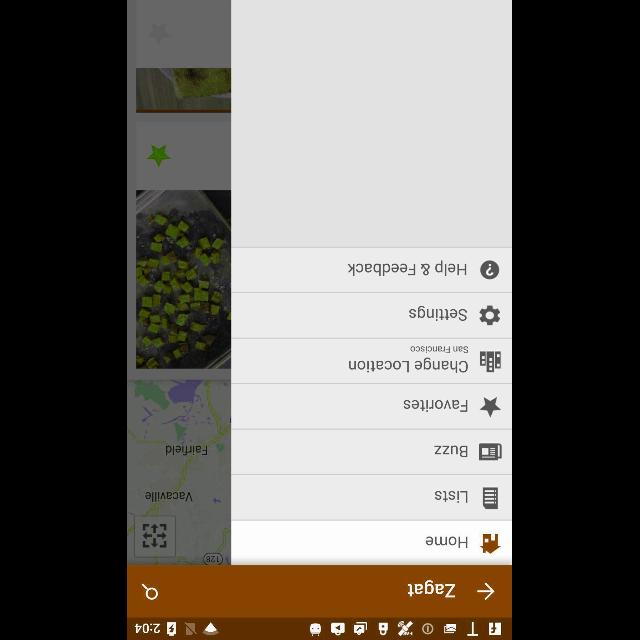icon: (480, 397, 502, 418), (481, 534, 502, 554), (480, 260, 500, 280), (480, 305, 500, 325), (480, 443, 502, 461), (483, 486, 499, 509), (142, 582, 160, 600), (478, 582, 496, 600)
image: (480, 351, 502, 373)
panel: (232, 0, 512, 564)
text: (348, 260, 468, 276), (349, 357, 468, 373), (410, 305, 468, 321), (408, 579, 456, 597), (404, 400, 468, 412), (426, 536, 468, 548), (411, 346, 469, 354), (434, 445, 468, 457), (436, 491, 468, 503)
toolbar: (128, 566, 512, 616)
uppertaskbar: (128, 617, 512, 639)
